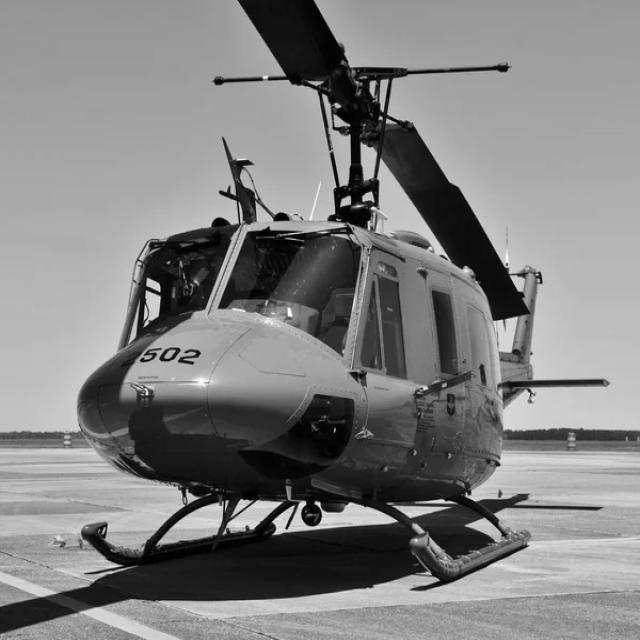Helicopter: (77, 0, 609, 583)
